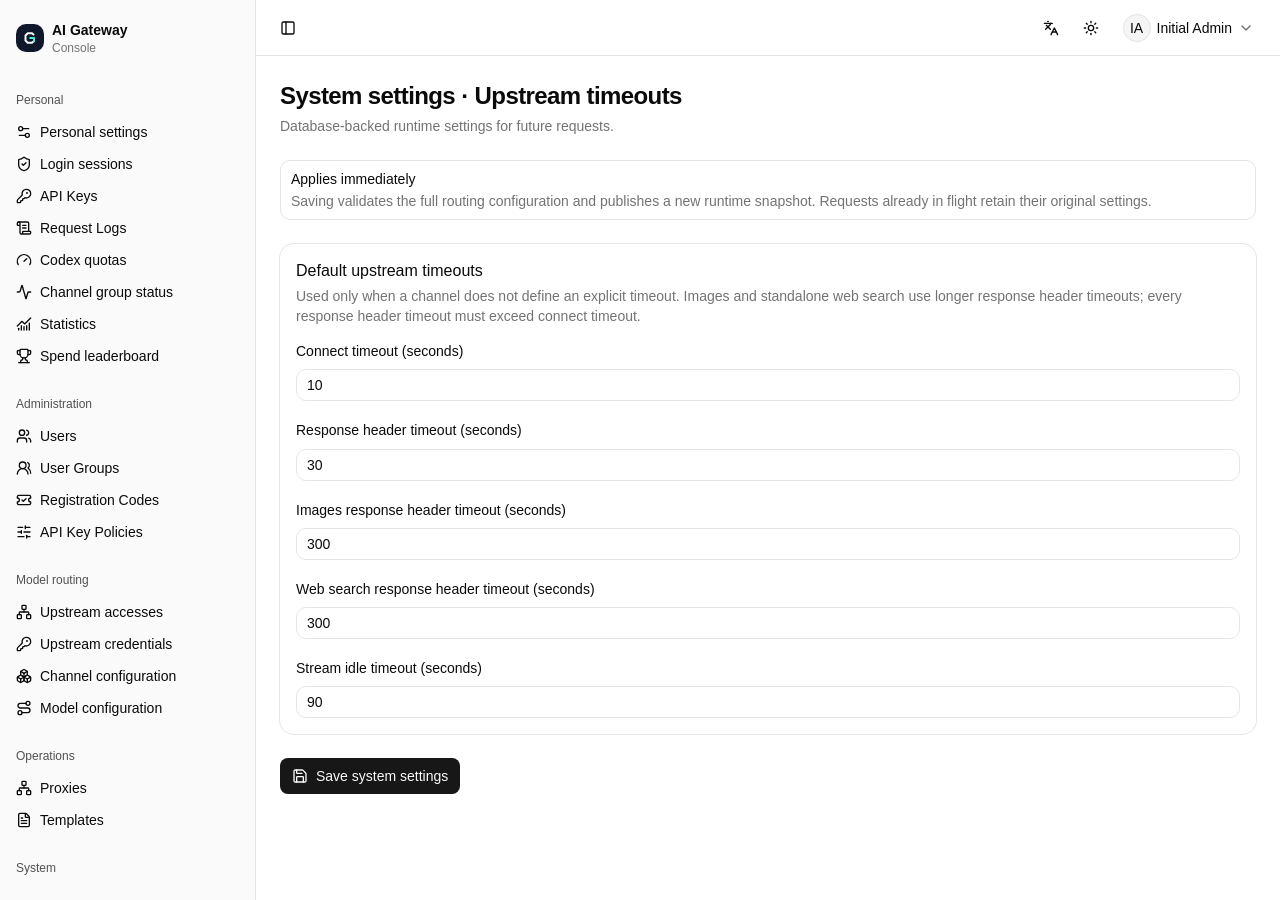
Test: SystemPage › requires the Images response-header timeout to exceed the connect timeout
Replace the text in the number field labelled "Images response header timeout (seconds)" with "10" at x=768, y=544, box [296, 528, 1240, 560]
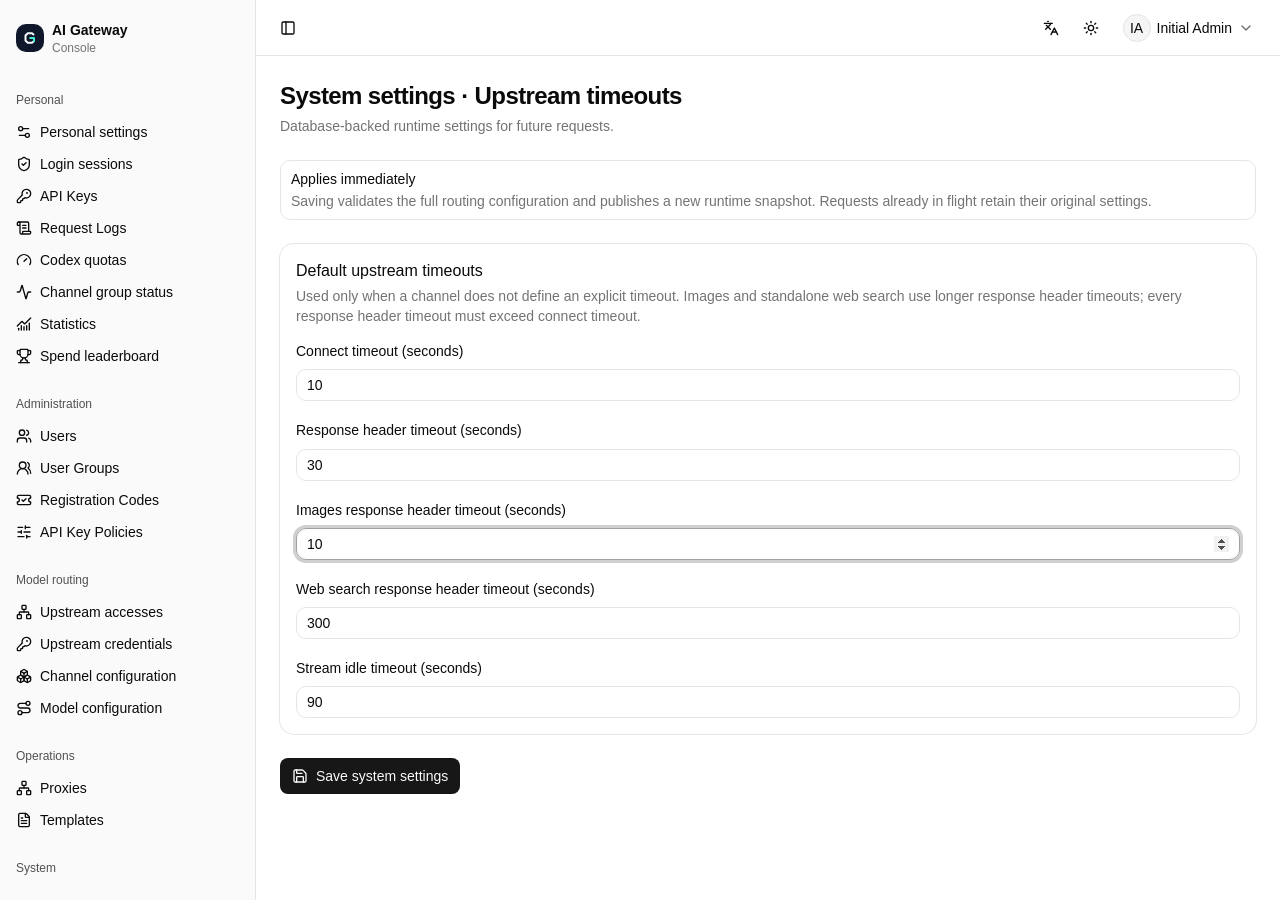
Click the button "Save system settings" at x=370, y=776, box [280, 758, 460, 794]
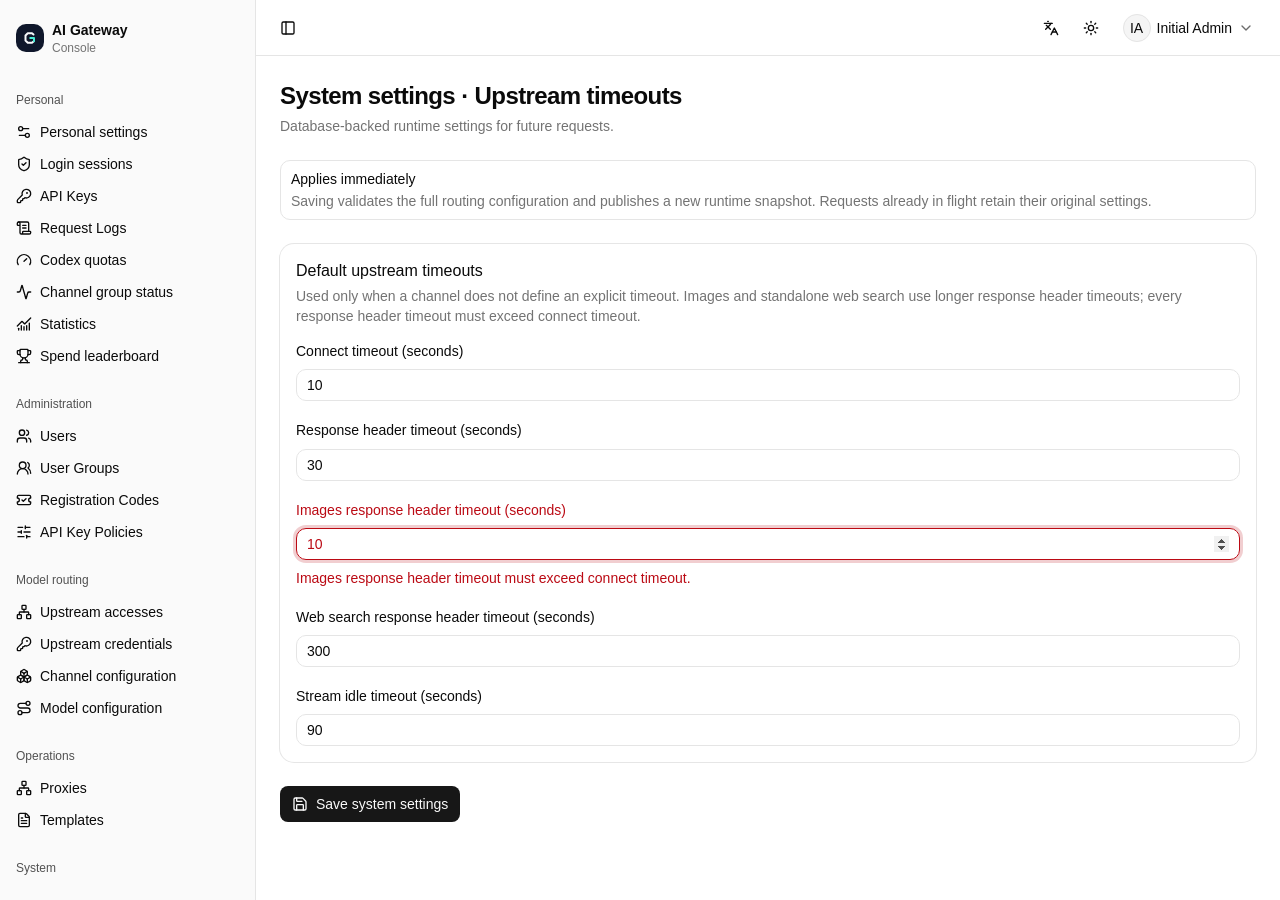
Expected: the text "Images response header timeout must exceed connect timeout." is shown, [296, 570, 691, 586]
